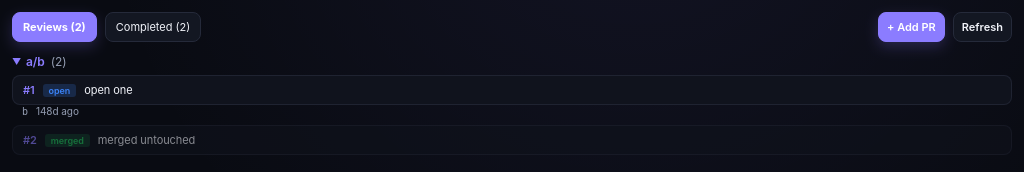
Test case: ReviewsPage › moves merged PRs I reviewed to the Completed tab; keeps others in Active
Expected: the text "open one" is shown, [84, 83, 133, 97]
Expected: the text "merged untouched" is shown, [98, 133, 195, 147]
What coordinates should you click on to do the following:
click the button with test id "reviews-tab-completed"
I would click on:
 (153, 27)
Its box is [105, 12, 201, 42].
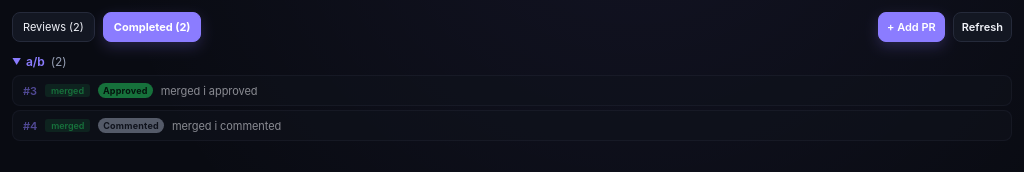
Result: the text "merged i approved" is shown at [161, 84, 258, 98]
Result: the text "merged i commented" is shown at [172, 118, 281, 132]
Result: the text "open one" is gone
